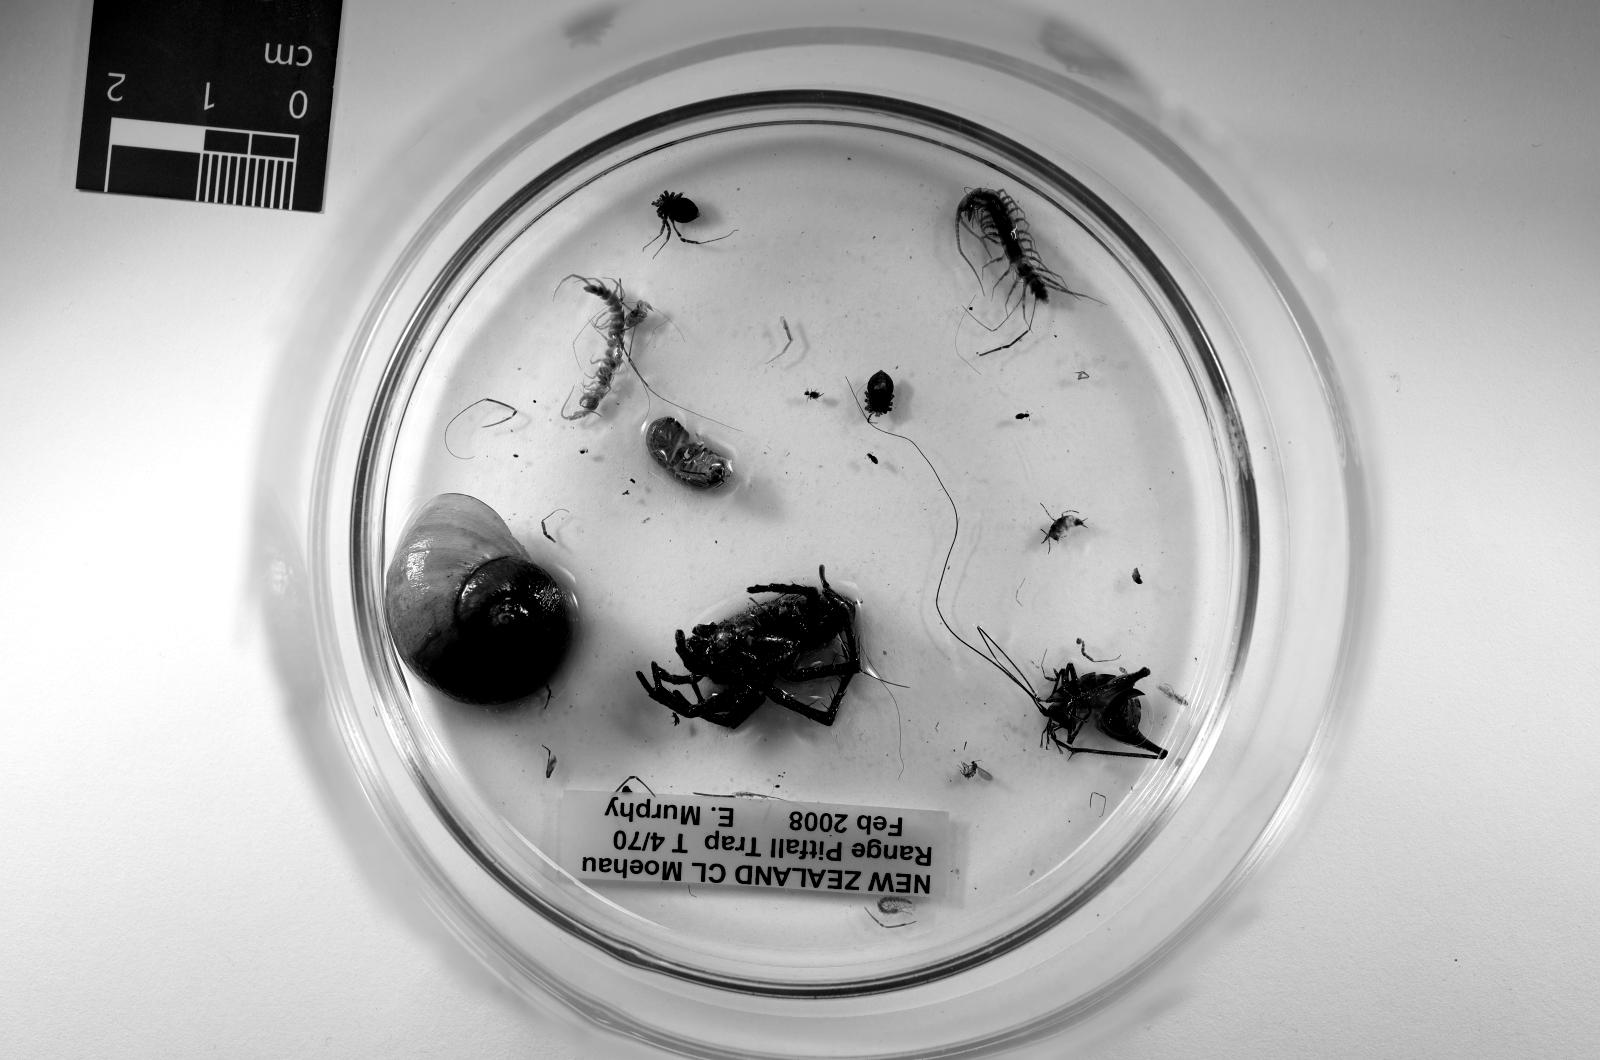araneae: (637, 568, 862, 730)
chilopoda: (957, 189, 1090, 351), (565, 277, 647, 419), (879, 894, 915, 916)
coleoptera: (866, 453, 879, 466), (672, 711, 681, 726), (1016, 413, 1031, 419)
diptera: (959, 761, 993, 783)
gastropoda: (388, 497, 572, 705)
isopoda: (647, 419, 731, 487)
opiliones: (653, 189, 715, 245), (866, 373, 894, 416)
orthoptera: (978, 627, 1168, 761), (1044, 509, 1088, 550)
